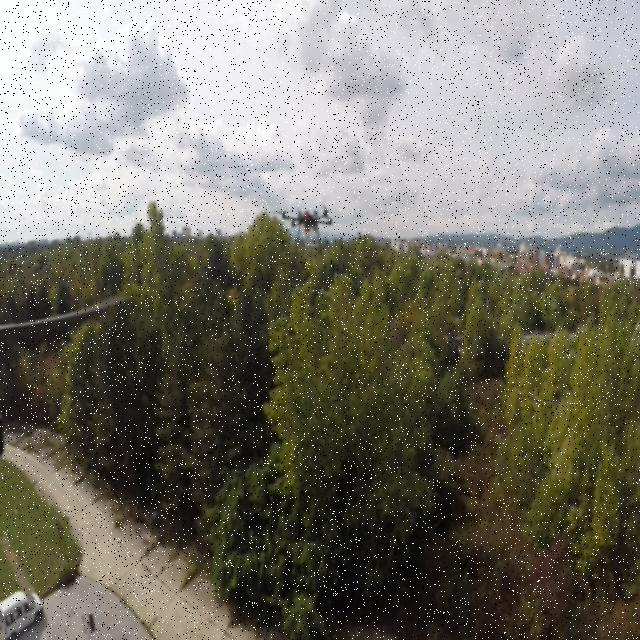UAV: (269, 202, 341, 260)
